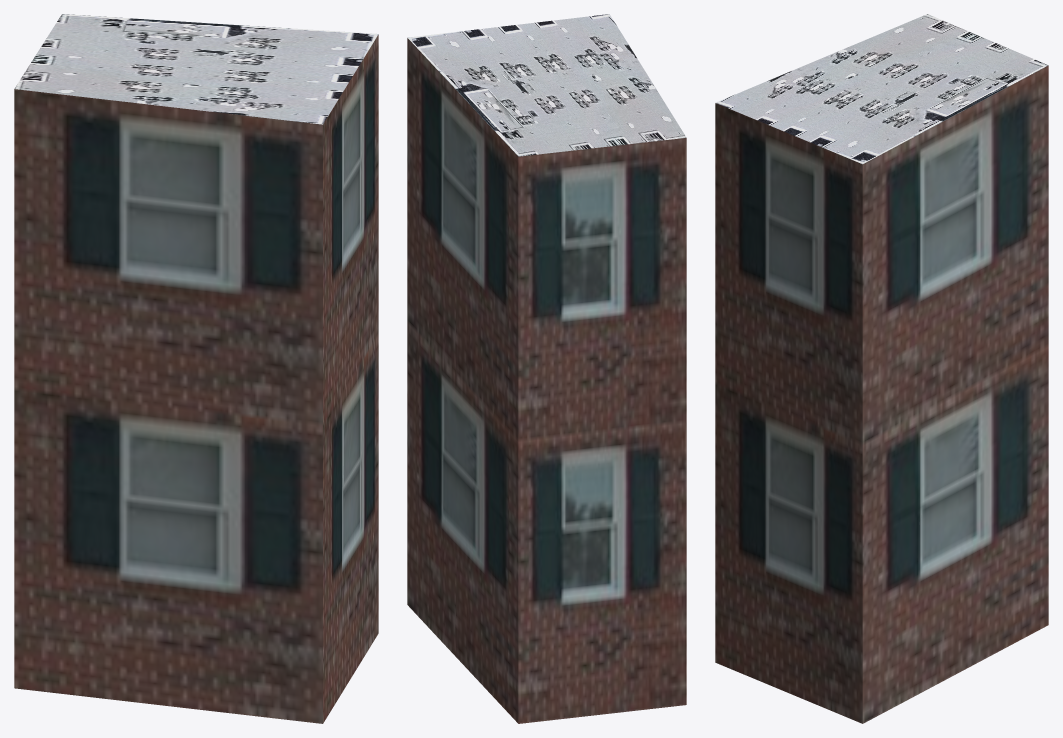
File: ResTex__329.fbx
3 views of the same model, side by side, from view 1: azimuth 30°, elevation 25°; view 2: azimuth 150°, elevation 25°; view 3: azimuth 270°, elevation 25° (orthographic). The views are drawn at different scales.
Visible parts, largest first — view 1: CityEngineMaterial_14_m, CityEngineMaterial_4_m; view 2: CityEngineMaterial_14_m, CityEngineMaterial_4_m; view 3: CityEngineMaterial_14_m, CityEngineMaterial_4_m.
Boxes of the visible parts, <box> form: CityEngineMaterial_14_m: <box>14,34,378,723</box>; CityEngineMaterial_4_m: <box>14,14,378,124</box>; CityEngineMaterial_14_m: <box>407,38,686,723</box>; CityEngineMaterial_4_m: <box>408,14,686,156</box>; CityEngineMaterial_14_m: <box>715,65,1048,723</box>; CityEngineMaterial_4_m: <box>715,14,1048,164</box>.
Size of the model in its own units: 3.46 by 6 by 3.24.
2 materials, 2 textured.
